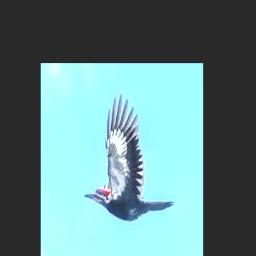Woodpecker: (84, 94, 175, 221)
